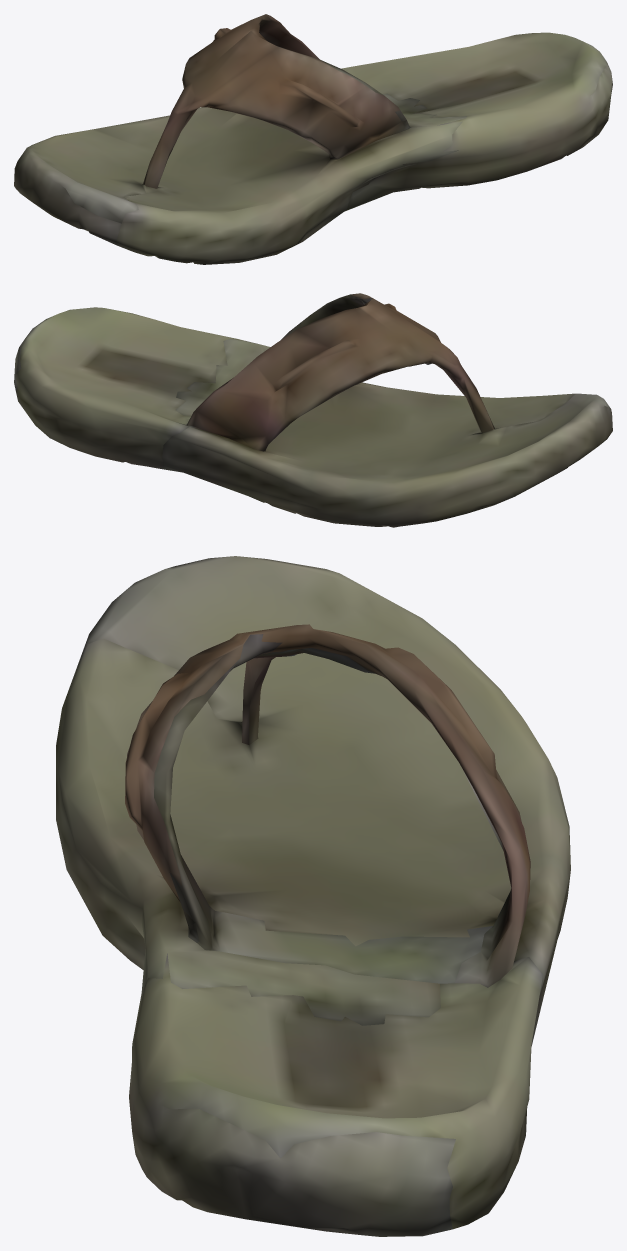
File: Mens_Santa_Cruz_Thong_in_Chocolate_La1fo2mAovE-medium.glb
3 renders of one model, top to bottom at view 1: azimuth 30°, elevation 25°; view 2: azimuth 150°, elevation 25°; view 3: azimuth 270°, elevation 25°, orthographic. The views are drawn at different scales.
Parts seen in each view (by area): view 1: Mens_Santa_Cruz_Thong_in_Chocolate_La1fo2mAovE; view 2: Mens_Santa_Cruz_Thong_in_Chocolate_La1fo2mAovE; view 3: Mens_Santa_Cruz_Thong_in_Chocolate_La1fo2mAovE.
Boxes of the visible parts, box(x1,y1,x2,y2) form: Mens_Santa_Cruz_Thong_in_Chocolate_La1fo2mAovE: box(14, 14, 612, 264); Mens_Santa_Cruz_Thong_in_Chocolate_La1fo2mAovE: box(14, 293, 612, 527); Mens_Santa_Cruz_Thong_in_Chocolate_La1fo2mAovE: box(56, 556, 570, 1236).
Size of the model in its own units: 0.2924 by 0.0841 by 0.1181.
Materials: 1 (1 with a texture image).
